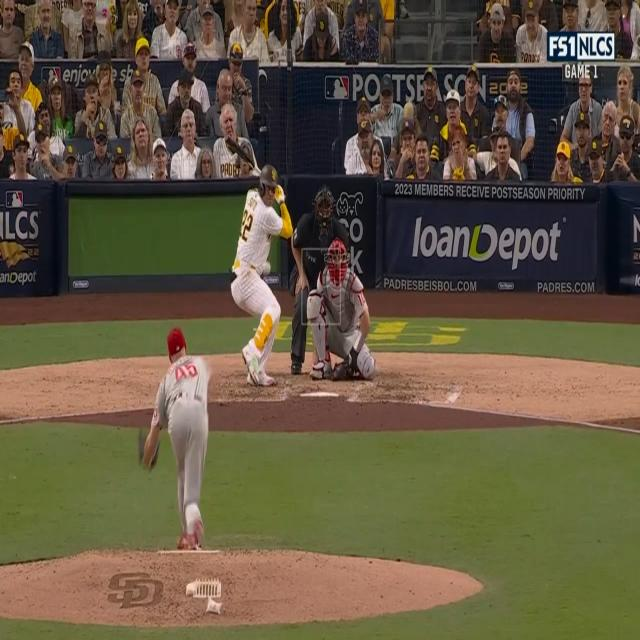baseball: (263, 262, 271, 274)
